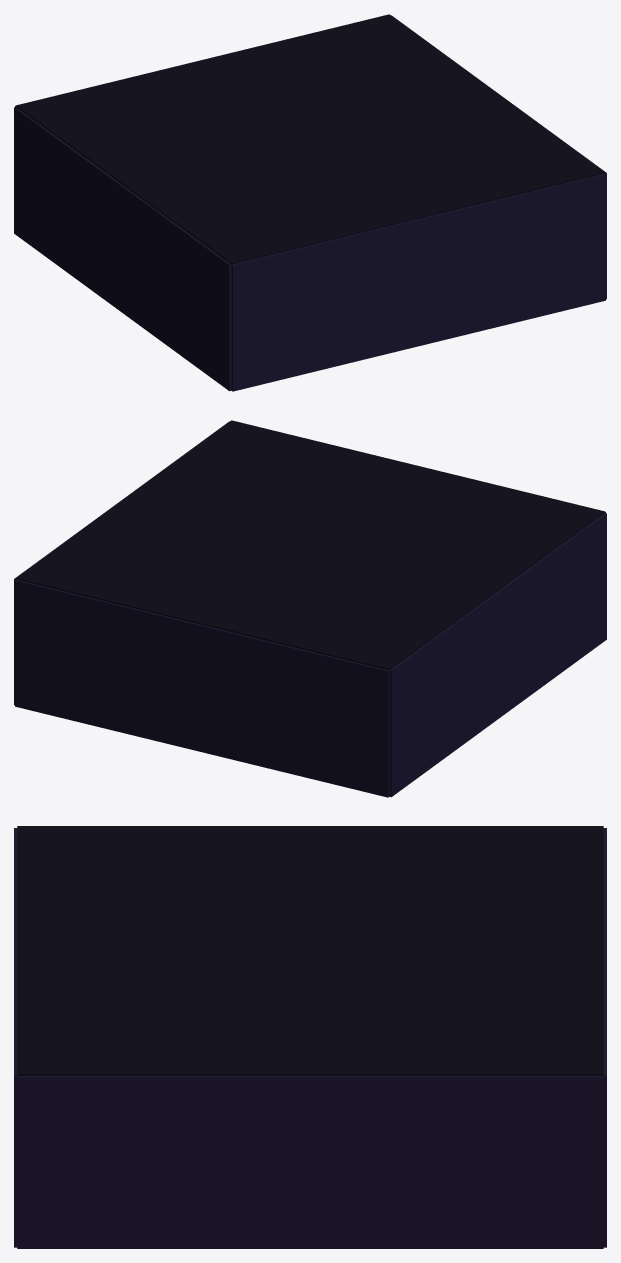
File: boxing.glb
The picture shows the model from 3 angles, top to bottom: view 1: azimuth 30°, elevation 25°; view 2: azimuth 150°, elevation 25°; view 3: azimuth 270°, elevation 25°; orthographic projection. The views are drawn at different scales.
Visible parts, largest first — view 1: m23, m22; view 2: m23, m22; view 3: m23, m22.
Boxes of the visible parts, box(x1,y1,x2,y2) form: m23: box(16, 14, 604, 264); m22: box(14, 15, 606, 391); m23: box(16, 420, 604, 670); m22: box(14, 421, 606, 797); m23: box(17, 826, 603, 1075); m22: box(14, 828, 606, 1248).
Bounding box in the file's own units: 26.3 × 8.87 × 26.3.
